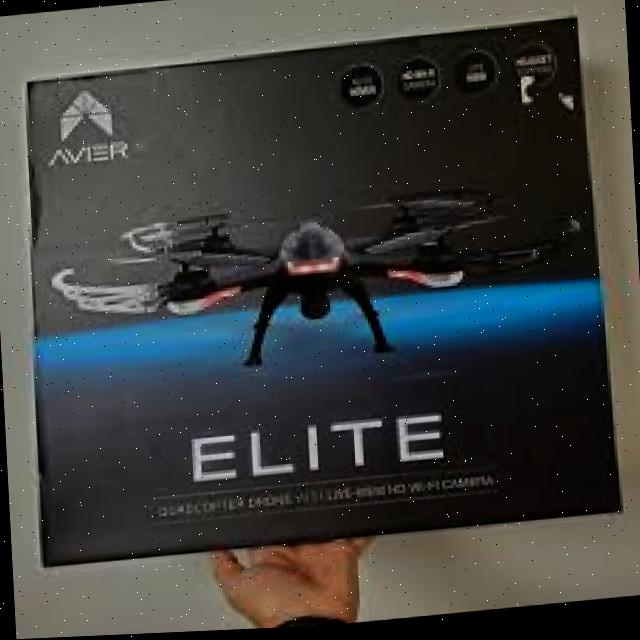drone: (44, 155, 589, 393)
